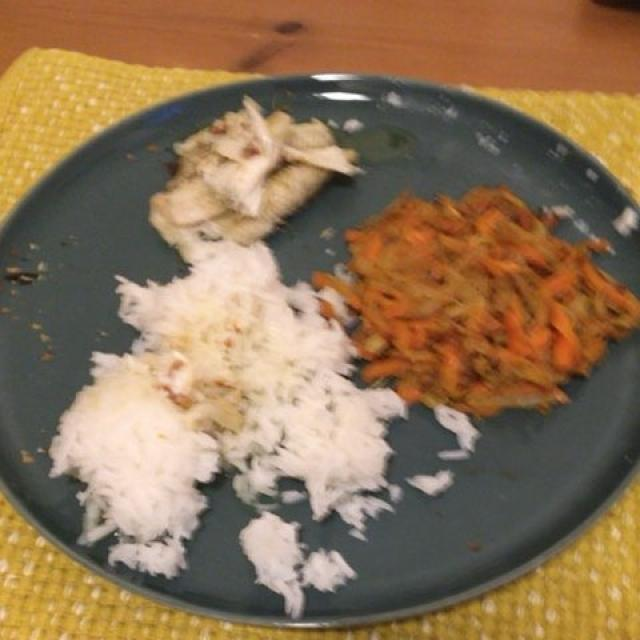fish: (157, 105, 357, 242)
mixed-vegetables: (333, 191, 631, 418)
rice: (54, 250, 393, 550)
